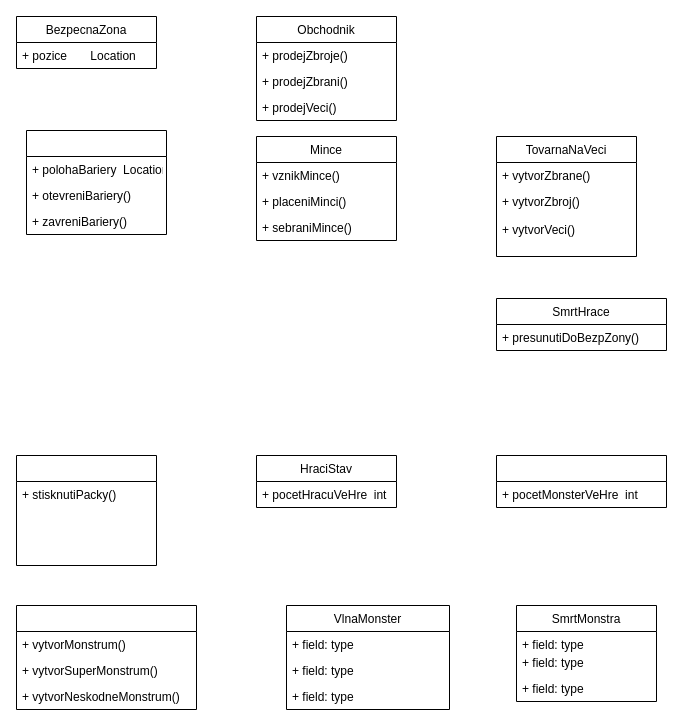
Image size: 683x726. Some labels were removed from this diagram. The box of each missing label's shape, as (x1, y1, x2, y2) in pixels:
Dvere: (26, 130, 166, 234)
MonstraStav: (496, 454, 666, 508)
Packa: (16, 454, 156, 566)
TovarnaNaMonstra: (16, 604, 196, 710)
